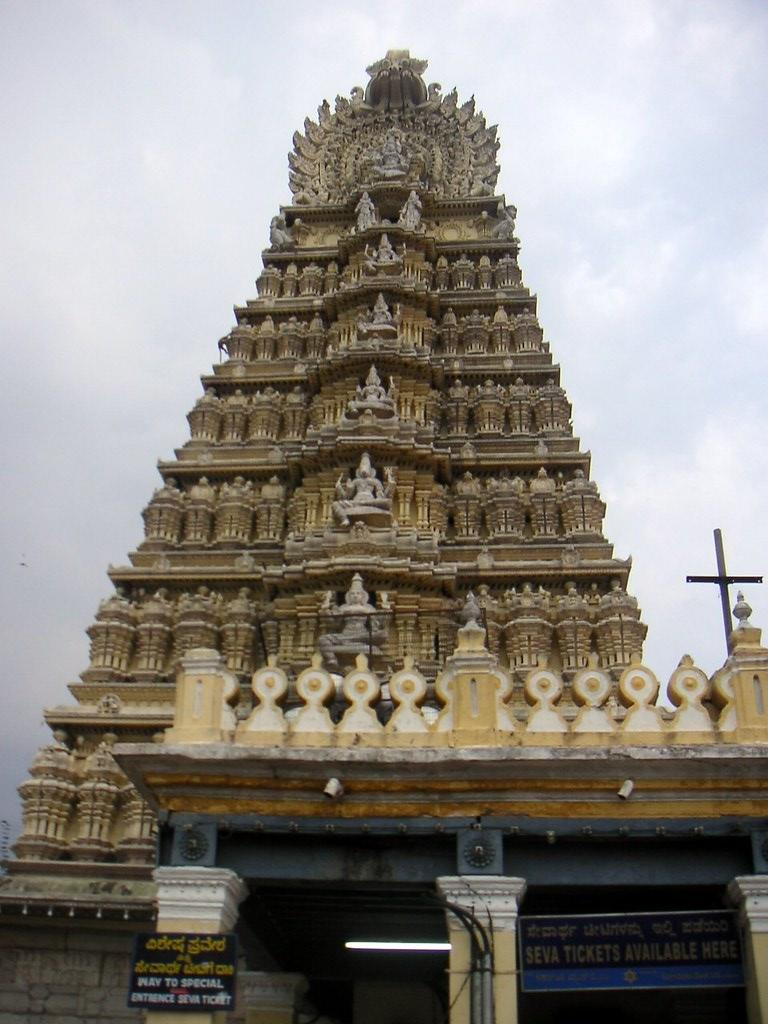temple: (2, 45, 767, 1022)
